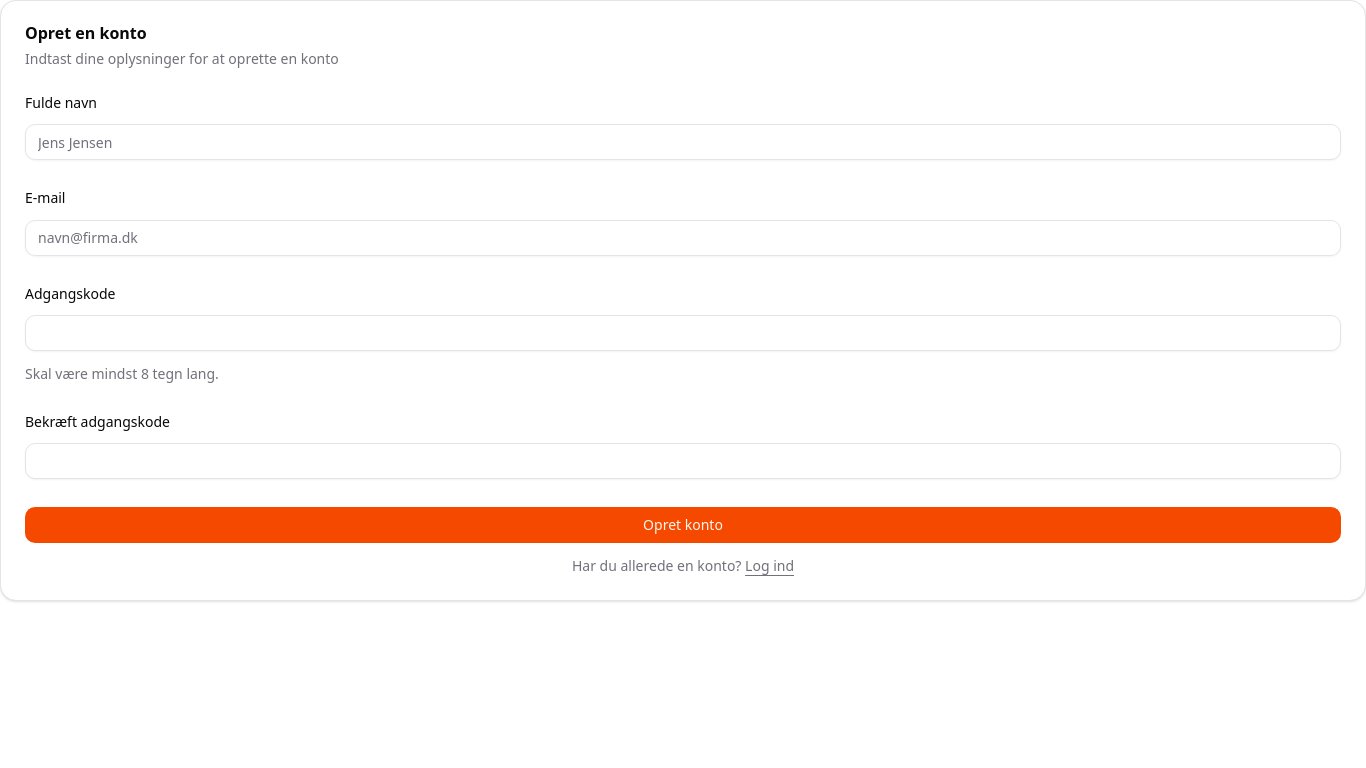
Test: SignupForm › shows error when password is too short
Type "Test User" into the field labelled "Fulde navn" at (683, 142), box [25,124,1341,160]
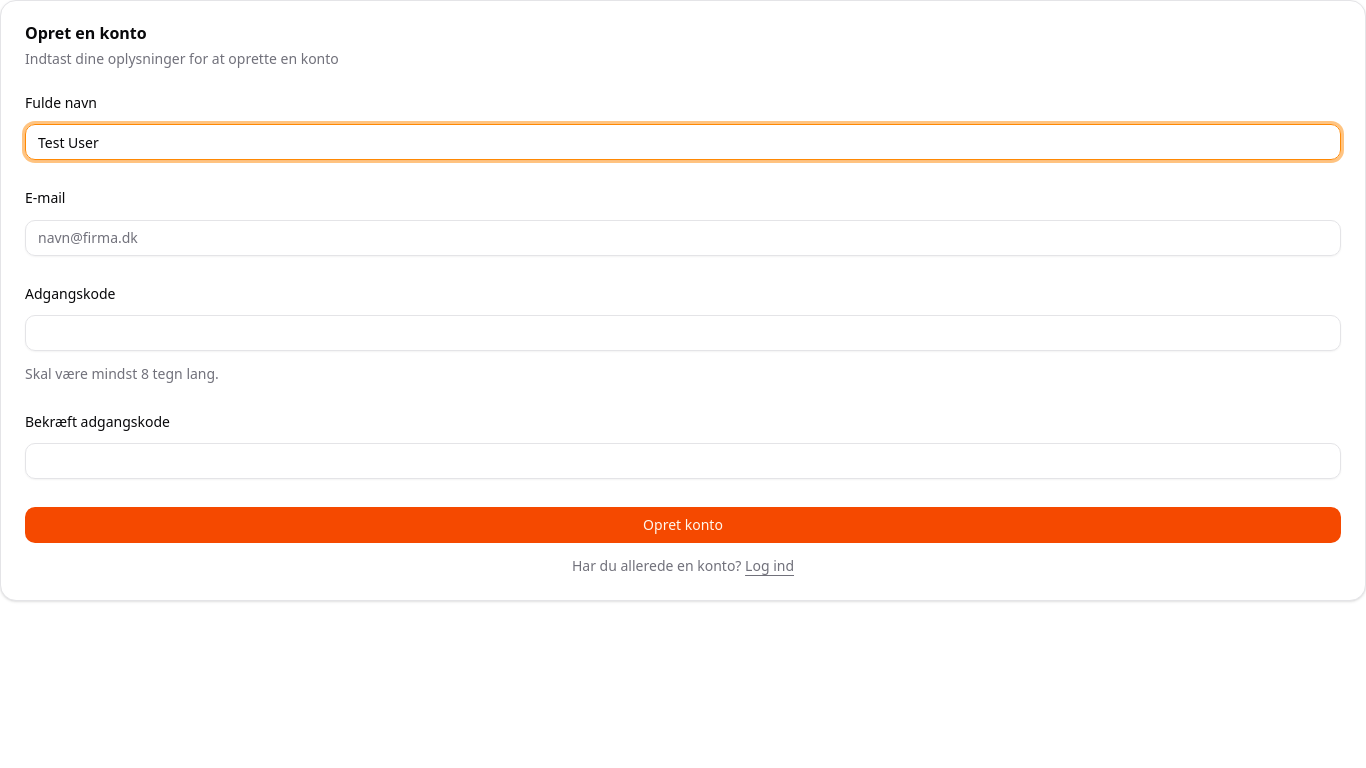
Type "test@example.com" into the field labelled "E-mail" at (683, 238), box [25,220,1341,256]
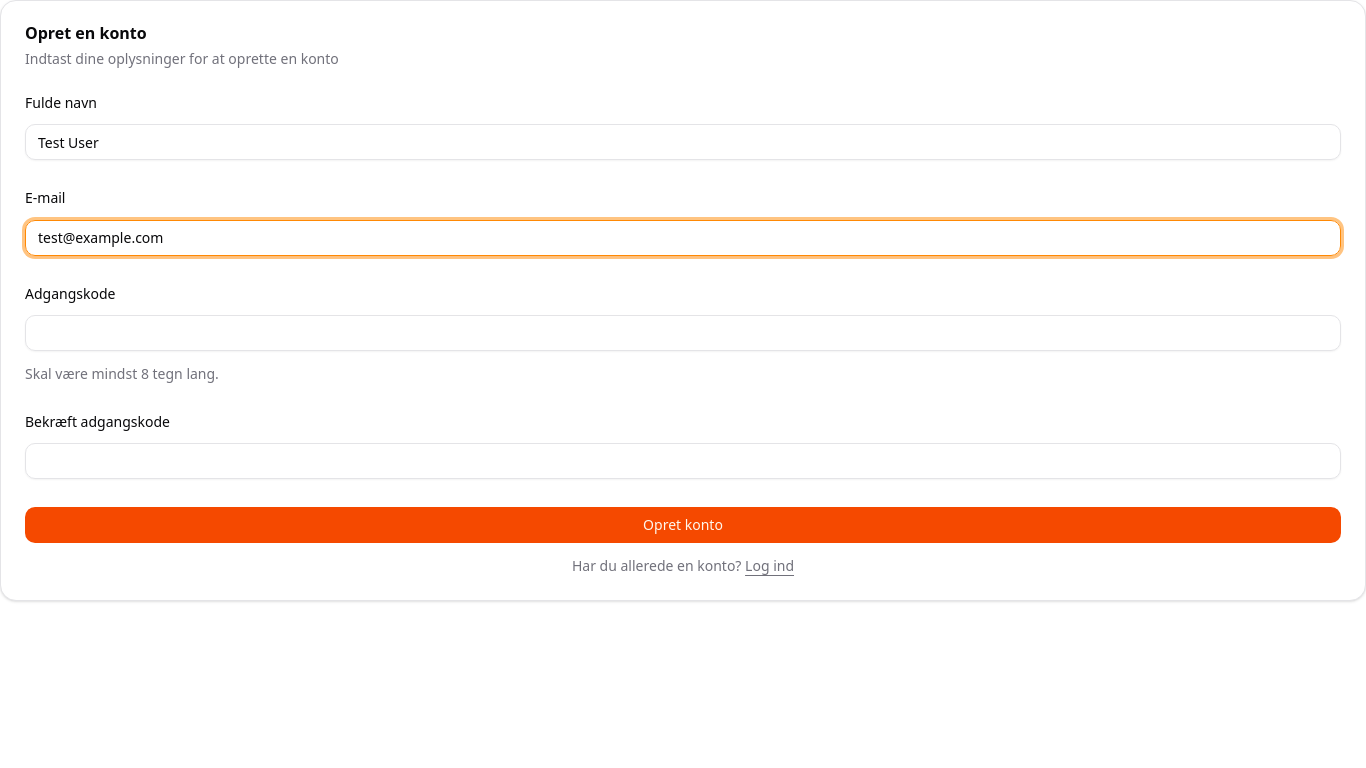
Type "pass" into the password field labelled "Adgangskode" at (683, 333), box [25,315,1341,351]
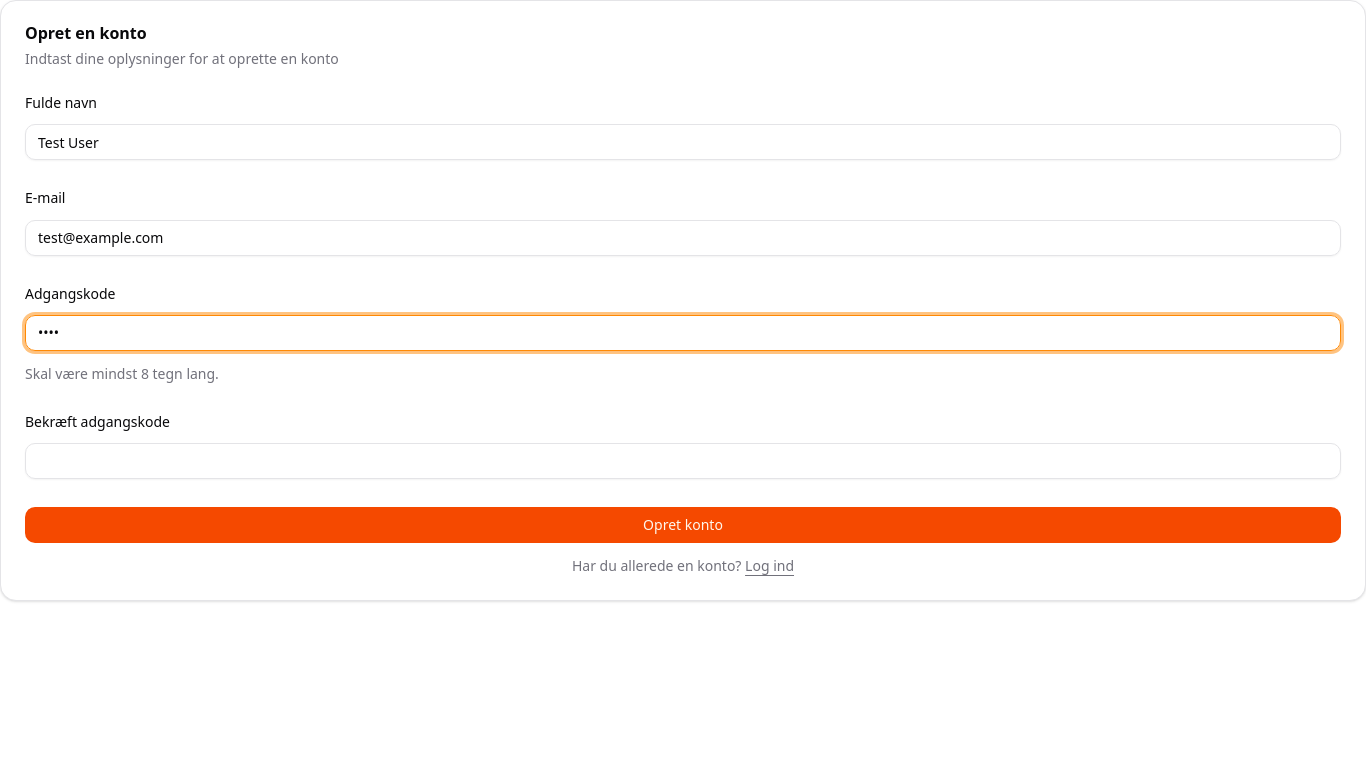
Type "pass" into the password field labelled "Bekræft adgangskode" at (683, 461), box [25,443,1341,479]
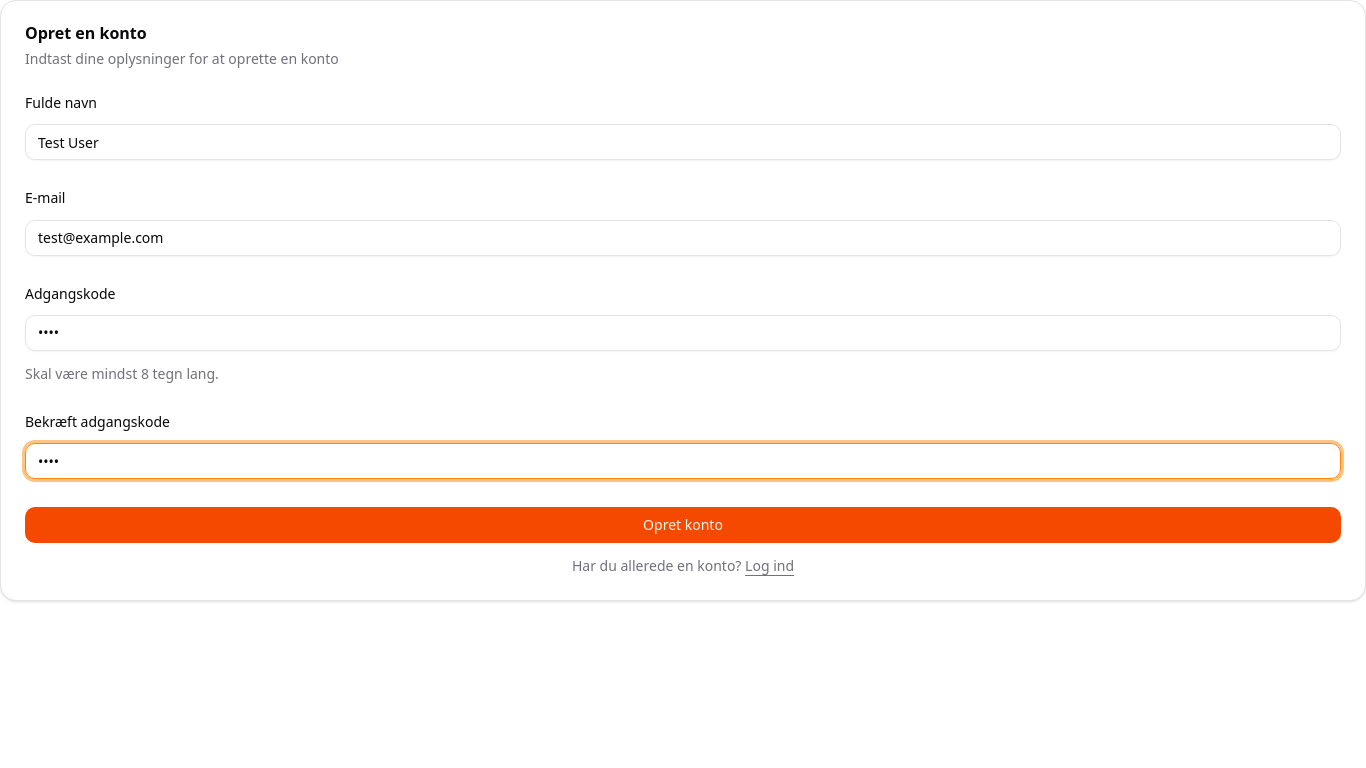
Click the button "Opret konto" at (683, 525), box [25,507,1341,543]
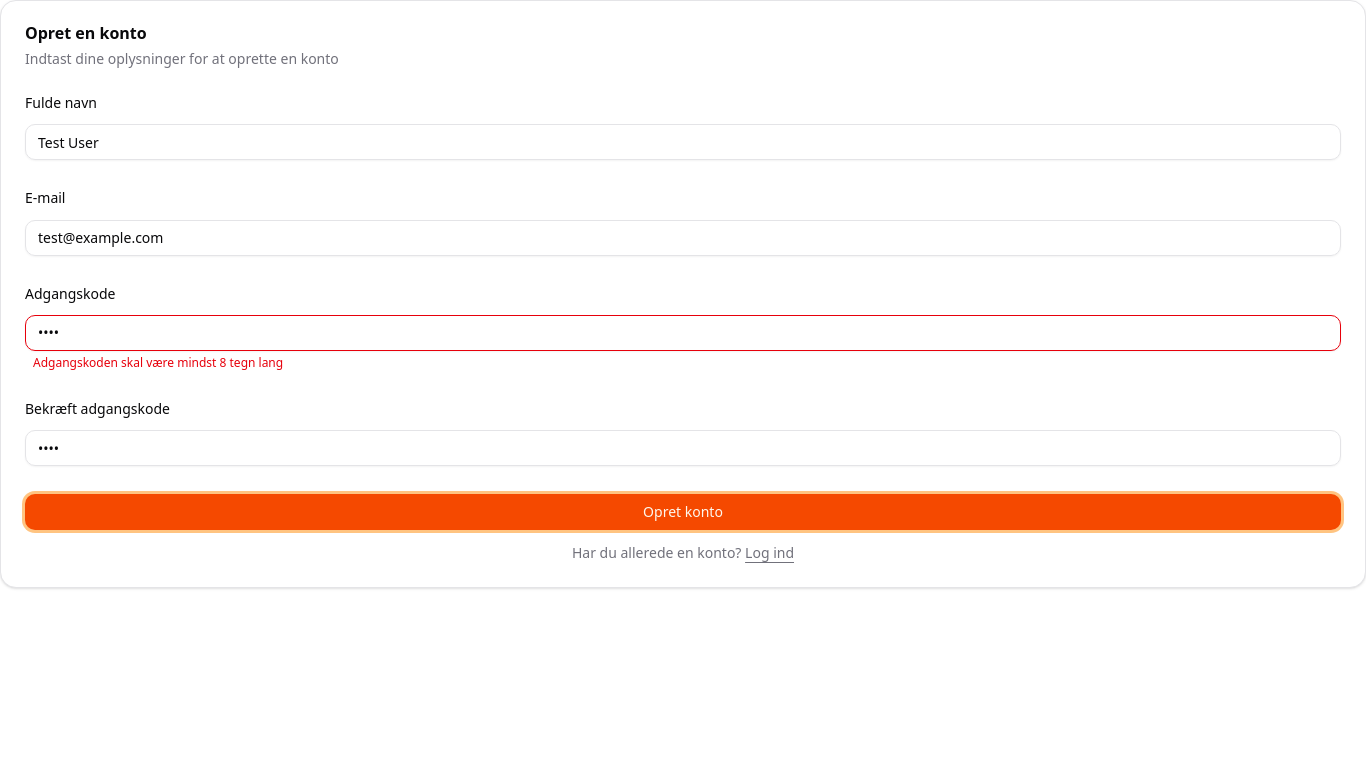
Check: the text "Adgangskoden skal være mindst 8 tegn lang" is shown, box [33,354,283,371]
